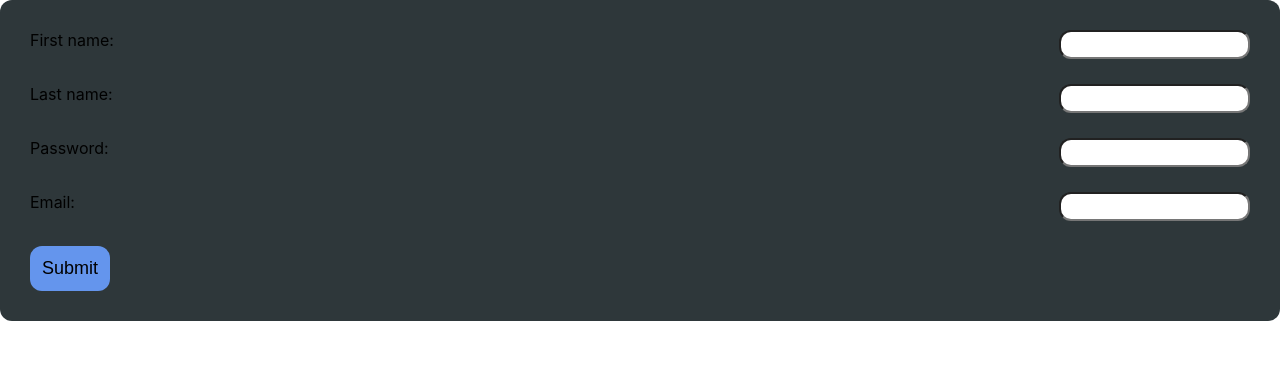
Test: check for errors if wrong First Name is passed
# Set input values
Type "john" into the field labelled "First name:".
click(1154, 44); type("john")  # box [1059, 30, 1250, 59]
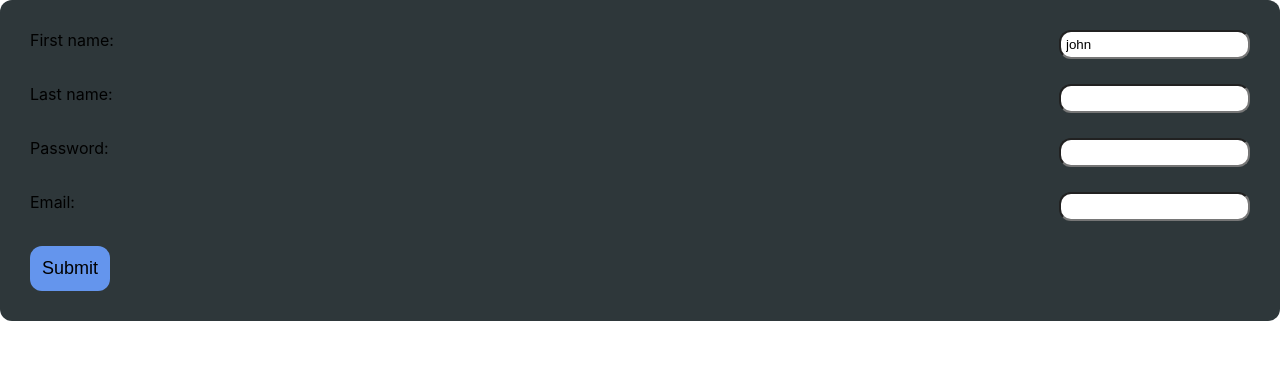
Type "Abcd" into the field labelled "Last name:".
click(1154, 98); type("Abcd")  # box [1059, 84, 1250, 113]
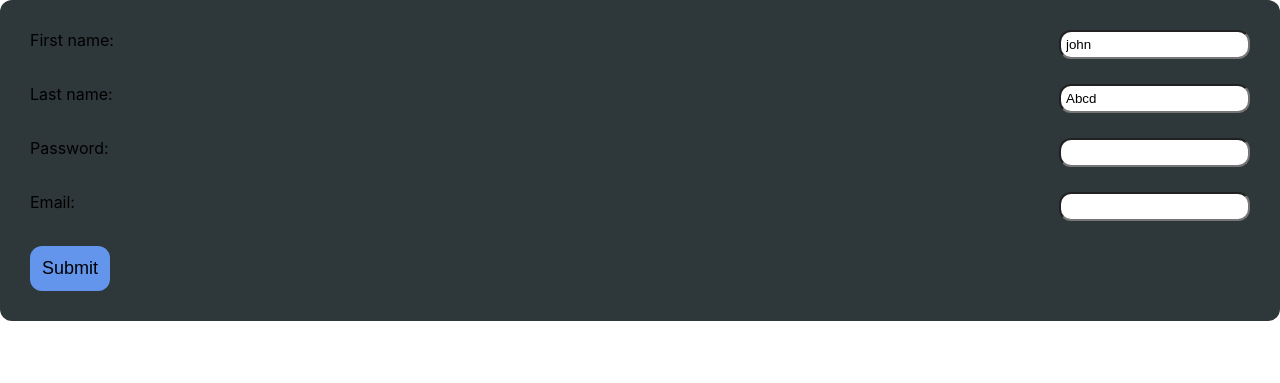
Type "johndoe@example.com" into the field labelled "Email:".
click(1154, 206); type("johndoe@example.com")  # box [1059, 192, 1250, 221]
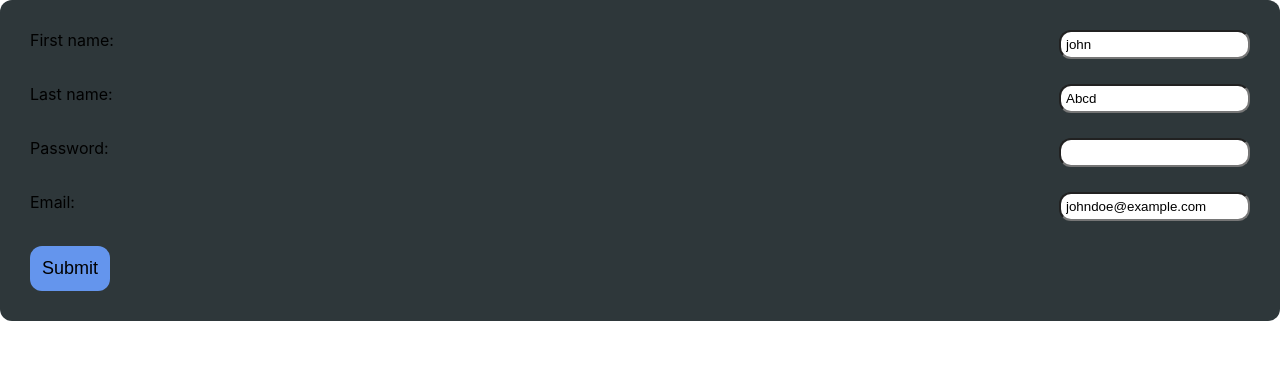
Type "Password#45" into the password field labelled "Password:".
click(1154, 152); type("Password#45")  # box [1059, 138, 1250, 167]
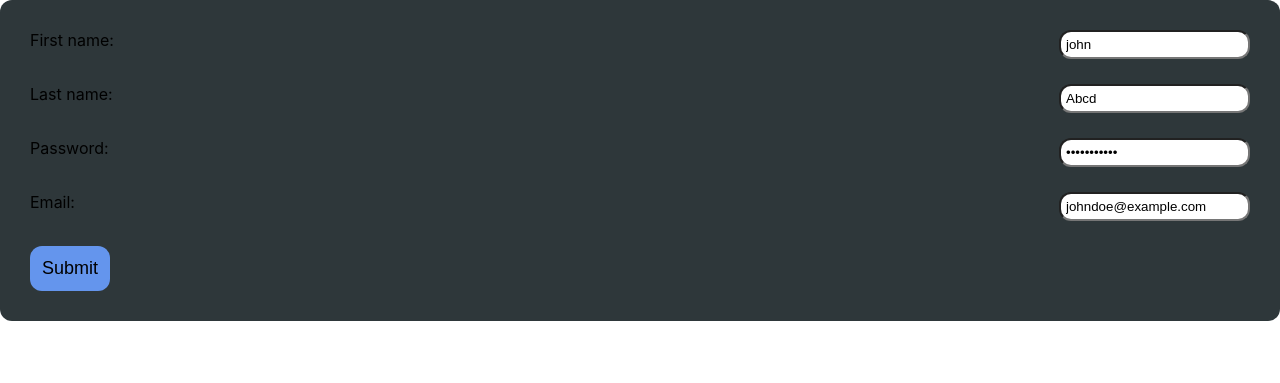
# Trigger form submission
Click the button "Submit".
click(70, 268)  # box [30, 246, 110, 291]
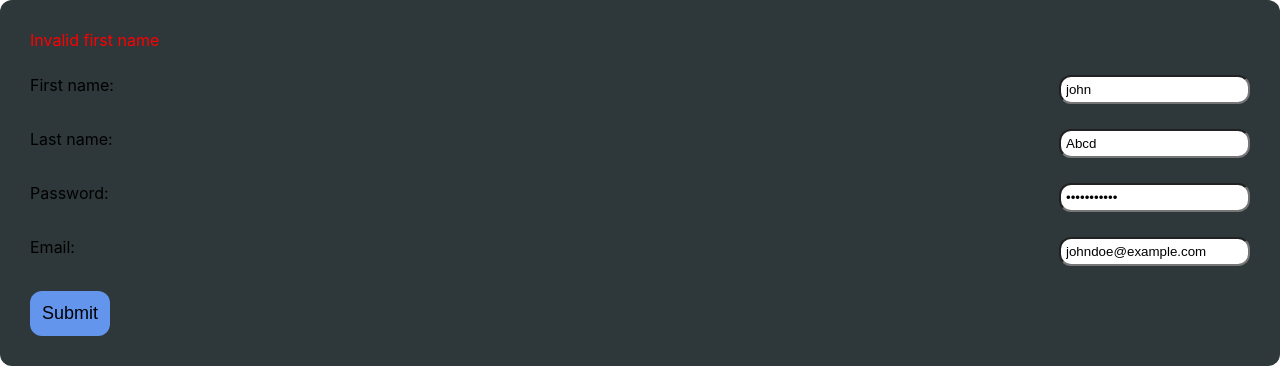
Expected: the text "Invalid first name" is shown, [30, 30, 159, 50]
